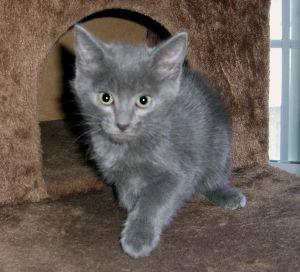rblue: (63, 12, 196, 151)
